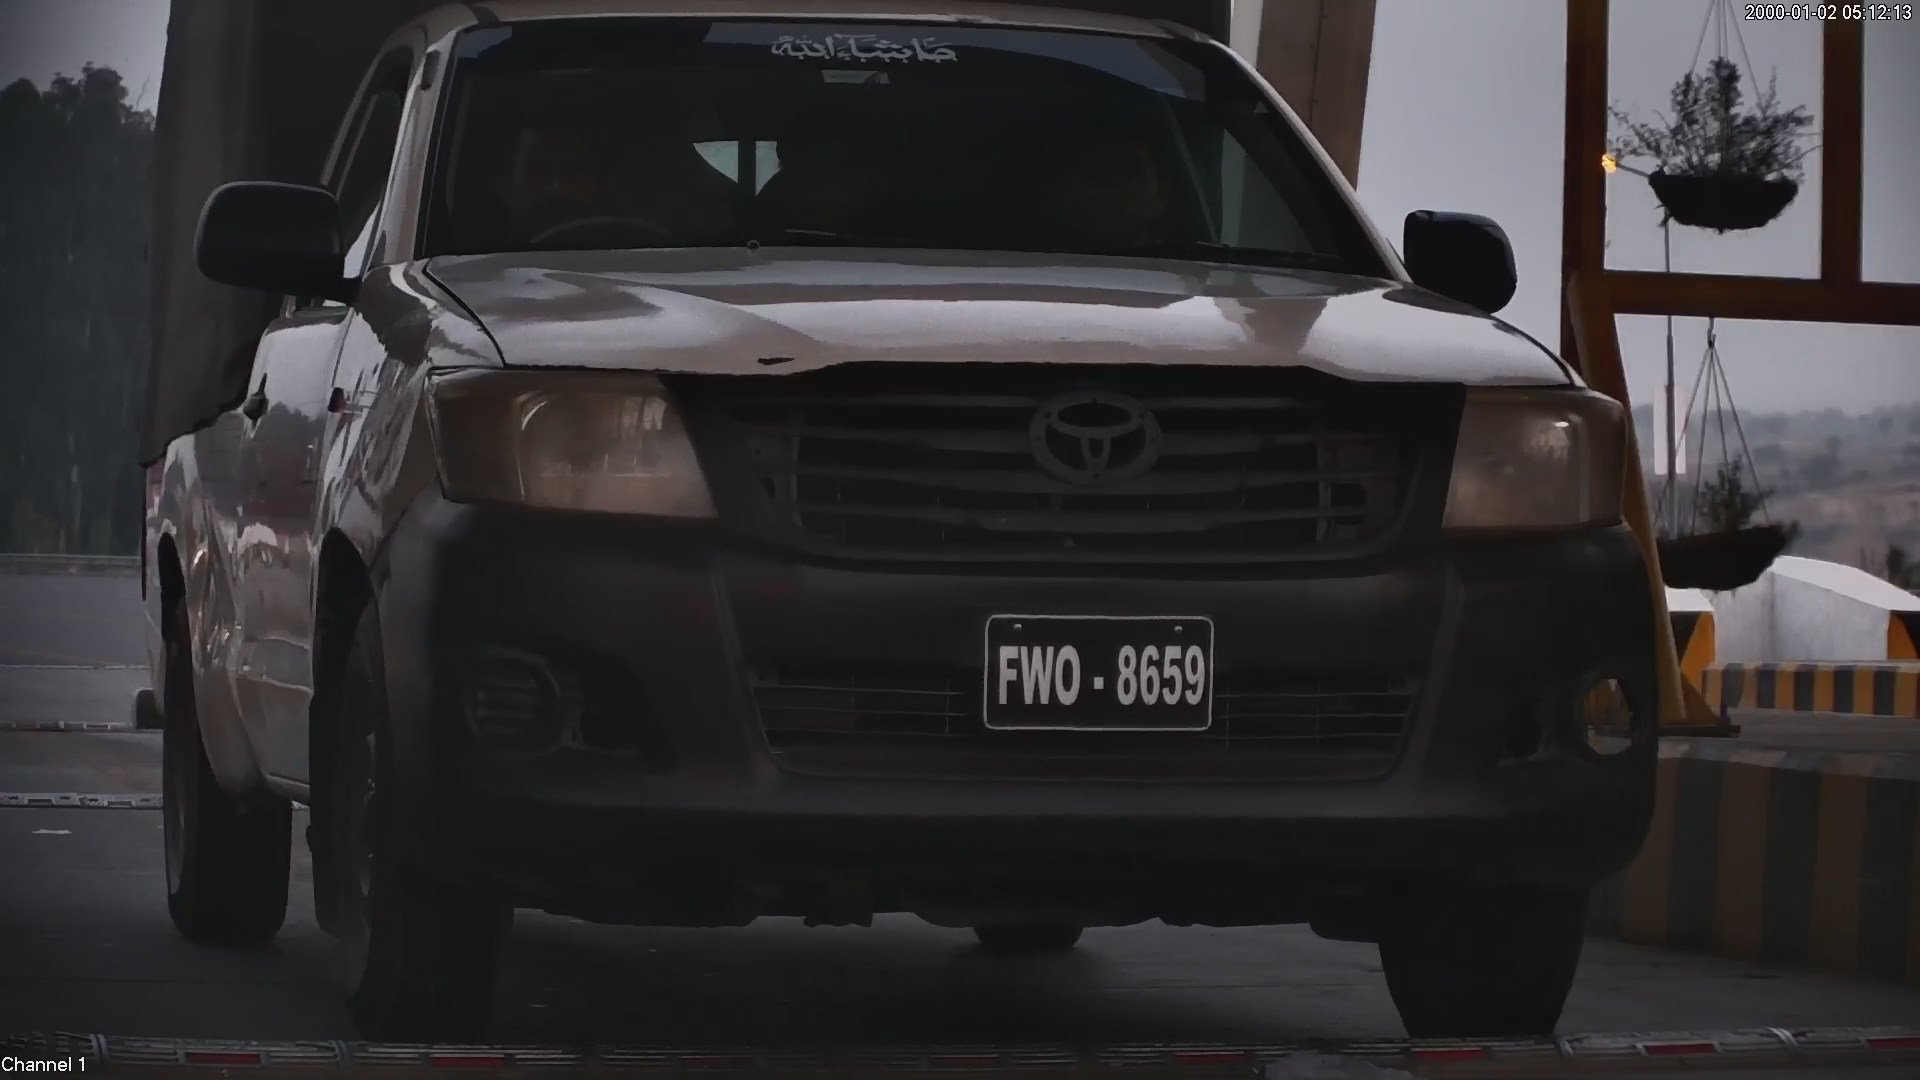Number_Plate: (973, 602, 1222, 749)
